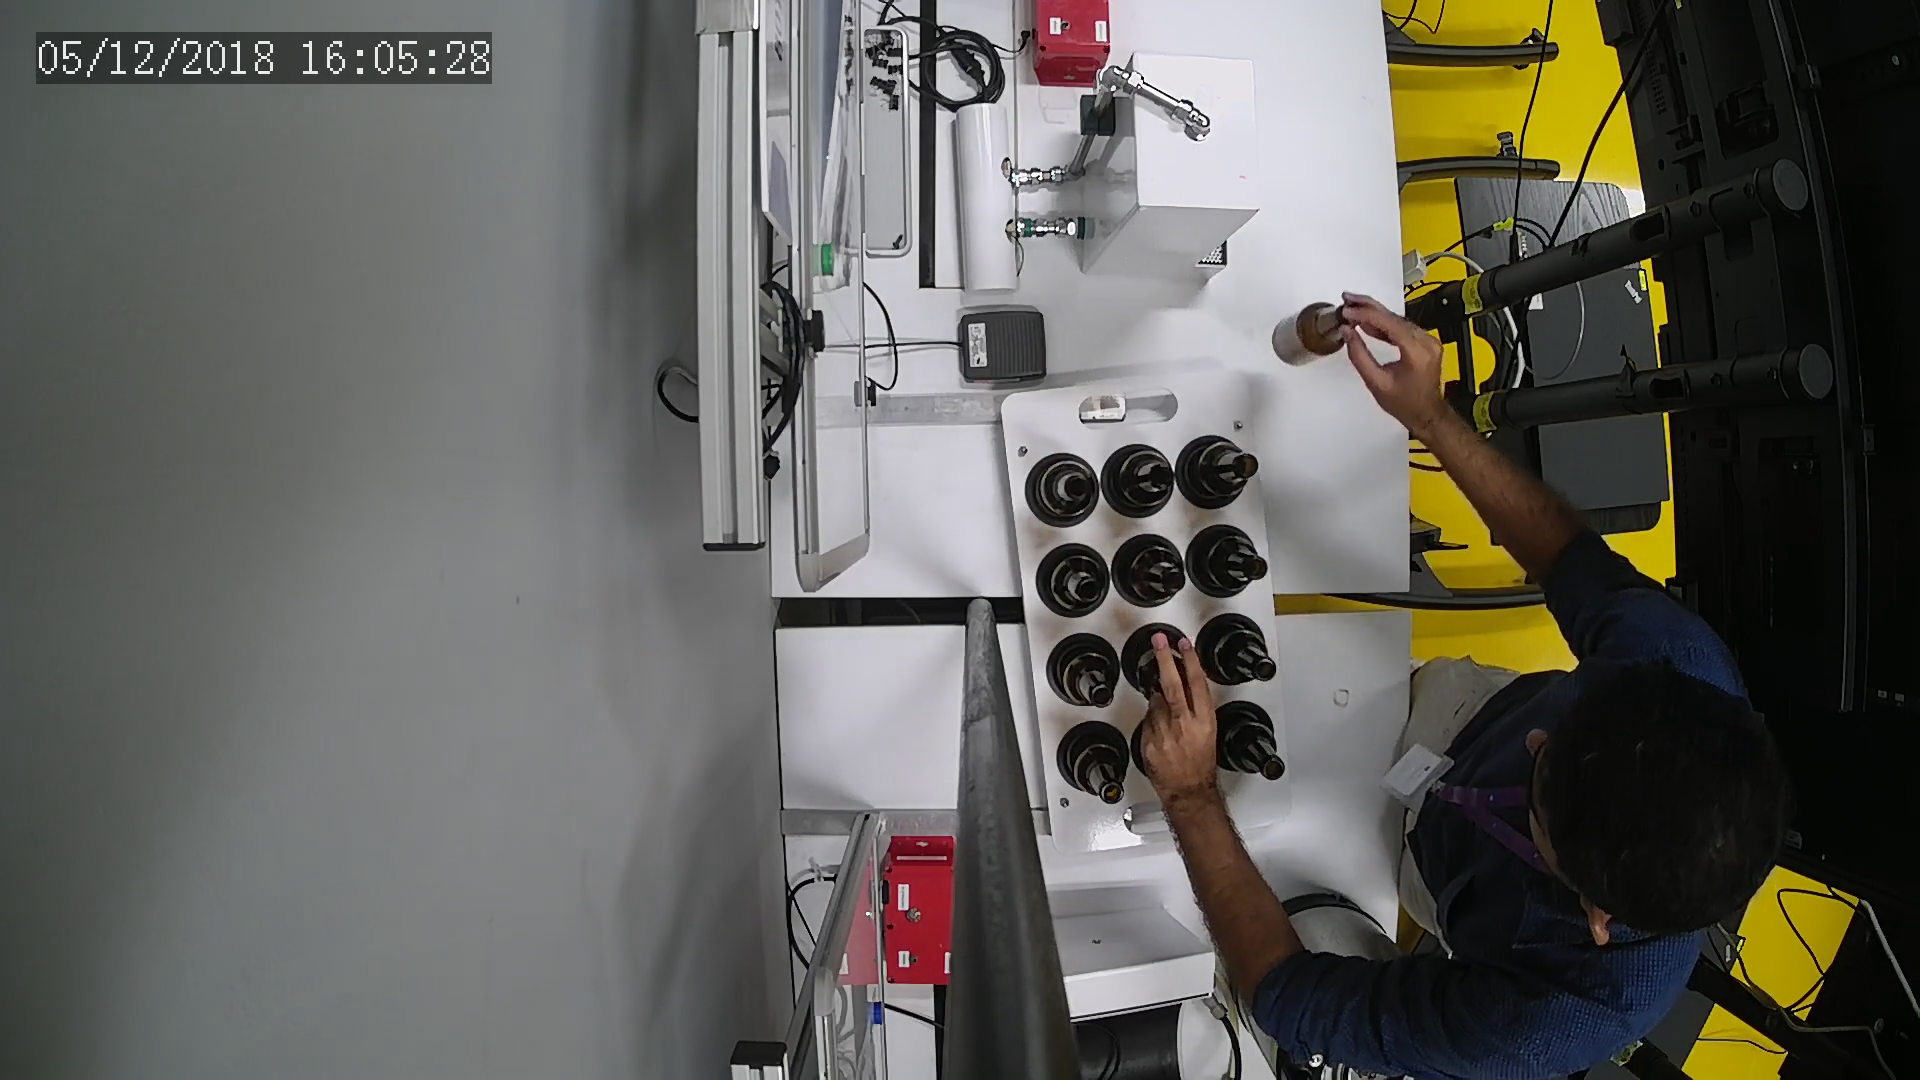filled_bottle: (1058, 723, 1141, 815), (1176, 433, 1265, 516), (1040, 630, 1124, 715), (1033, 541, 1114, 626), (1195, 611, 1278, 694), (1212, 695, 1287, 786), (1097, 436, 1179, 520), (1110, 531, 1187, 616), (1025, 448, 1104, 527), (1189, 520, 1266, 599)
trolley: (1000, 365, 1303, 853)
